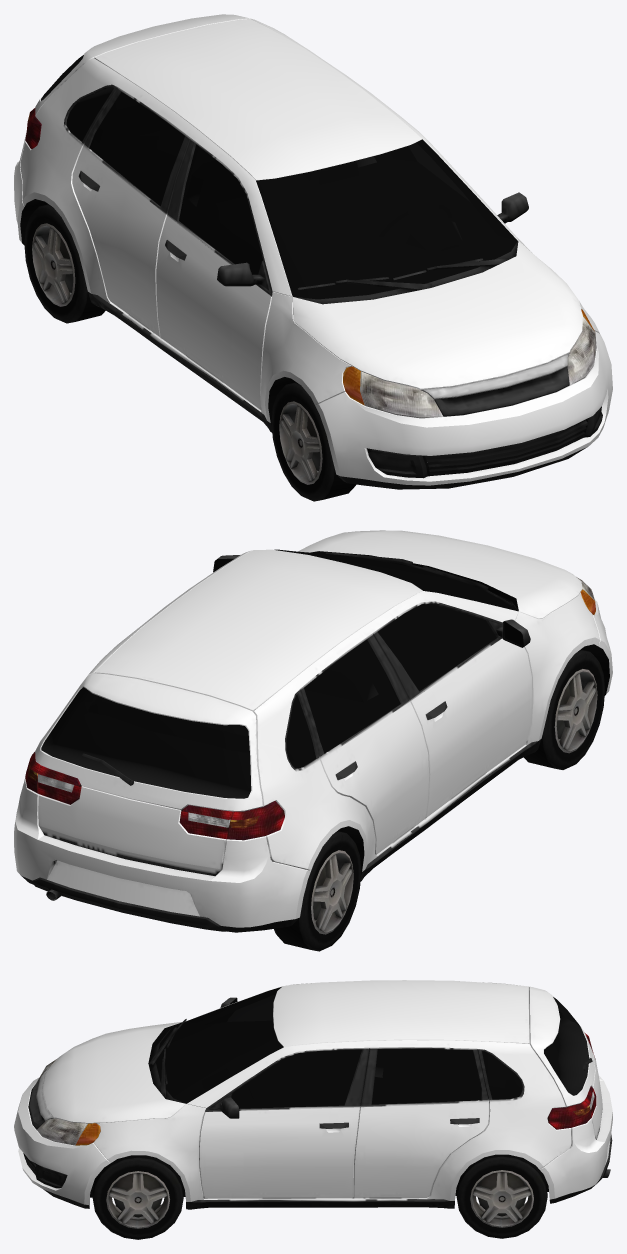
The model's file is cmp_hatchback.glb.
3 renders of one model, top to bottom at view 1: azimuth 30°, elevation 25°; view 2: azimuth 150°, elevation 25°; view 3: azimuth 270°, elevation 25°, orthographic. The views are drawn at different scales.
Visible parts, largest first — view 1: Hatchback Body, Wheel_B002, Wheel_B003; view 2: Hatchback Body, Wheel_B003, Wheel_B002; view 3: Hatchback Body, Wheel_B, Wheel_B001.
Boxes of the visible parts, bbox=[...] form: Hatchback Body: bbox=[14, 14, 612, 489]; Wheel_B002: bbox=[271, 382, 356, 501]; Wheel_B003: bbox=[24, 204, 105, 323]; Hatchback Body: bbox=[14, 530, 612, 932]; Wheel_B003: bbox=[274, 831, 361, 951]; Wheel_B002: bbox=[524, 649, 604, 769]; Hatchback Body: bbox=[14, 980, 612, 1209]; Wheel_B: bbox=[92, 1155, 183, 1239]; Wheel_B001: bbox=[456, 1154, 547, 1238].
Size of the model in its own units: 1.74 by 1.35 by 3.96.
4 materials, 3 textured.
